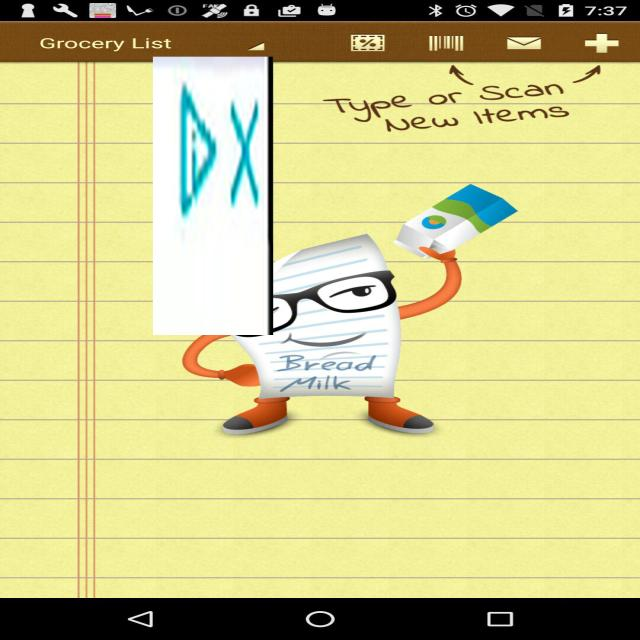sneaking: (153, 57, 273, 335)
